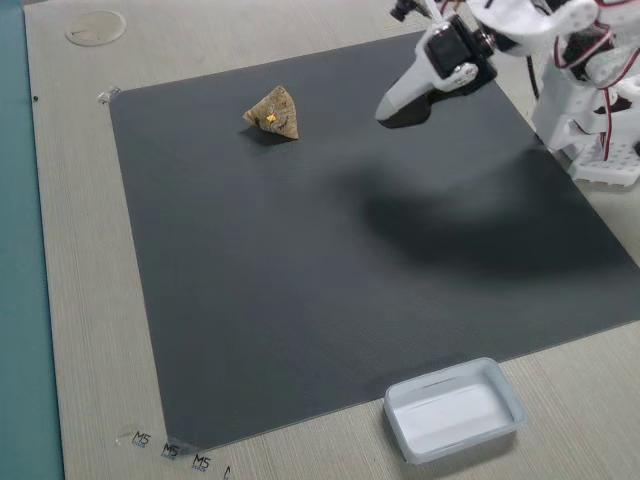objects: (390, 9, 496, 141)
